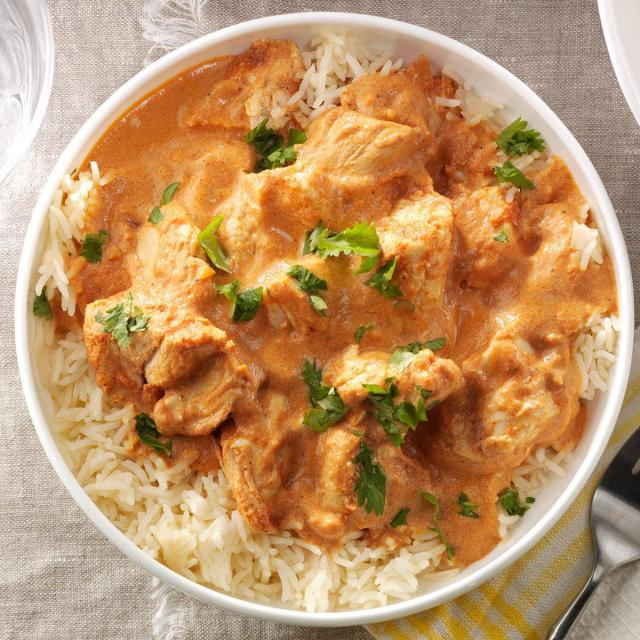Butter Chicken: (54, 37, 603, 562)
